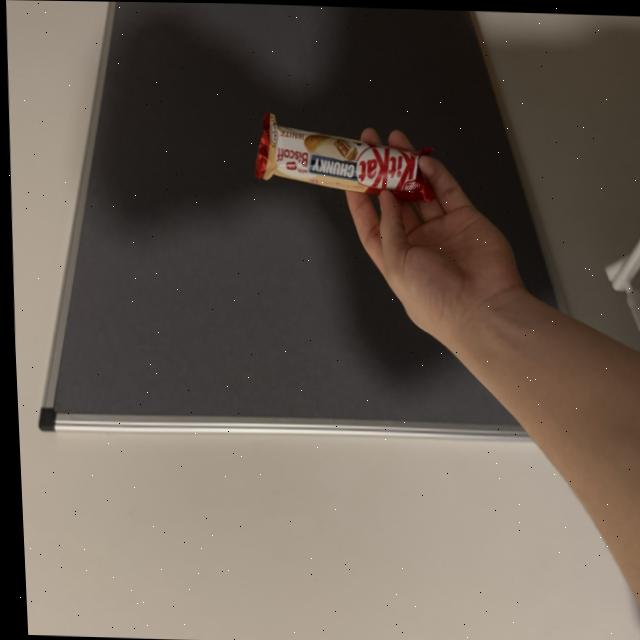chocolate: (240, 100, 441, 217)
